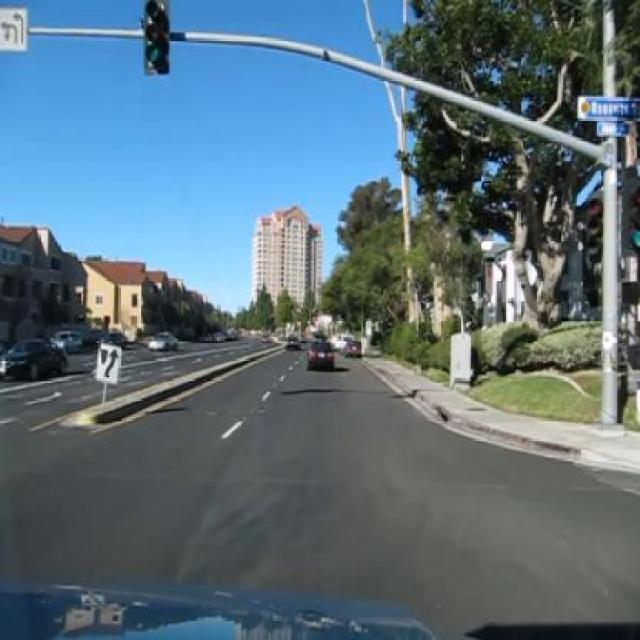keepRight: (94, 344, 121, 384)
